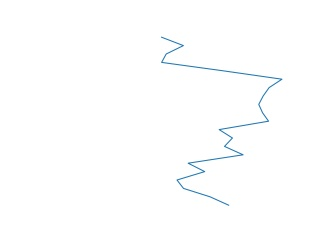floodPlain: (159, 36, 284, 209)
